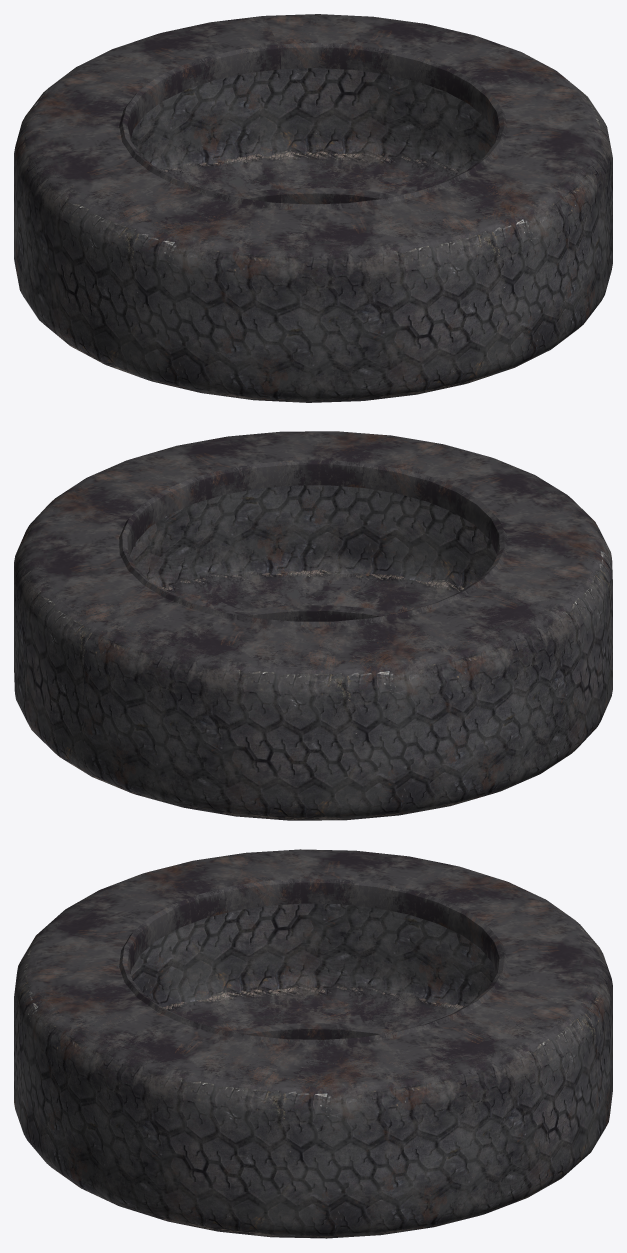
The model's file is Component_Tire_grp.fbx.
3 renders of one model, top to bottom at view 1: azimuth 30°, elevation 25°; view 2: azimuth 150°, elevation 25°; view 3: azimuth 270°, elevation 25°, orthographic.
Parts seen in each view (by area): view 1: tire_rubber; view 2: tire_rubber; view 3: tire_rubber.
Boxes of the visible parts, left/top/right/bottom form: tire_rubber: left=14, top=14, right=612, bottom=402; tire_rubber: left=14, top=431, right=612, bottom=820; tire_rubber: left=14, top=849, right=612, bottom=1238.
Bounding box in the file's own units: 99.89 × 31.23 × 99.89.
